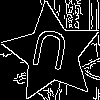U: (27, 28, 71, 80)
